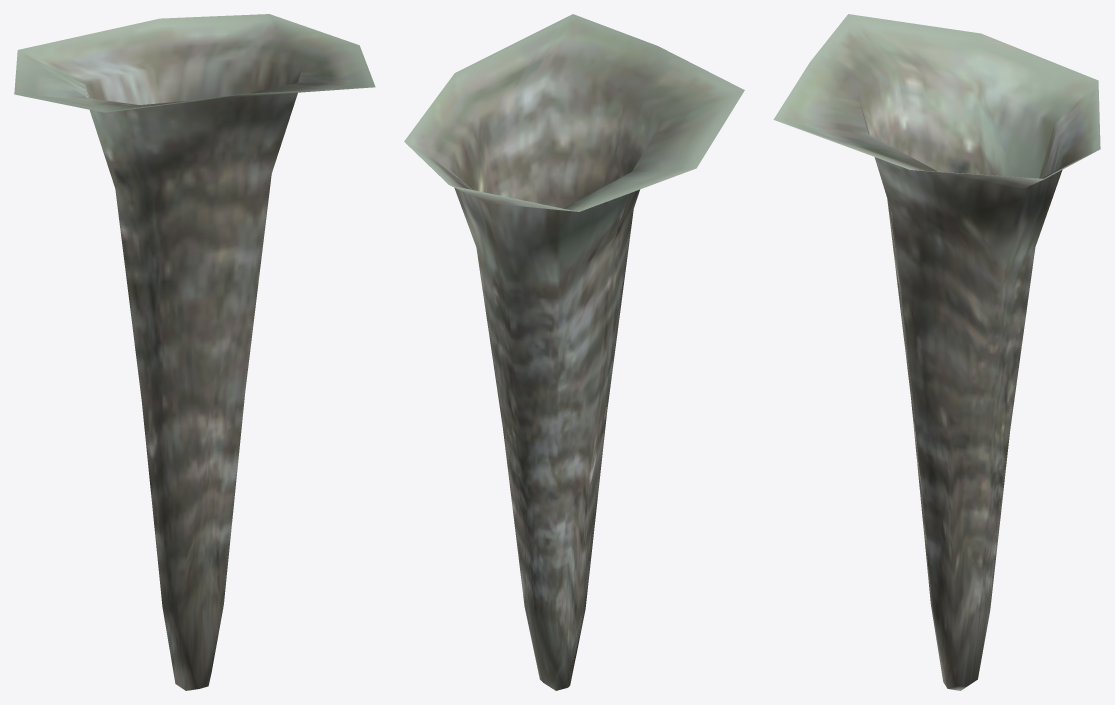
Rendered from TROLLHOLE02_PS-MAINSTALAG13.fbx.
3 views of the same model, side by side, from view 1: azimuth 30°, elevation 25°; view 2: azimuth 150°, elevation 25°; view 3: azimuth 270°, elevation 25° (orthographic). The views are drawn at different scales.
Parts seen in each view (by area): view 1: TROLLHOLE02_PS-MAINSTALAG13; view 2: TROLLHOLE02_PS-MAINSTALAG13; view 3: TROLLHOLE02_PS-MAINSTALAG13.
Part boxes in pixels (x1,y1,x2,y2): TROLLHOLE02_PS-MAINSTALAG13: (14, 14, 375, 690); TROLLHOLE02_PS-MAINSTALAG13: (404, 14, 744, 690); TROLLHOLE02_PS-MAINSTALAG13: (773, 14, 1100, 690).
Size of the model in its own units: 19087 by 39404 by 19022.
Materials: 1 (1 with a texture image).
